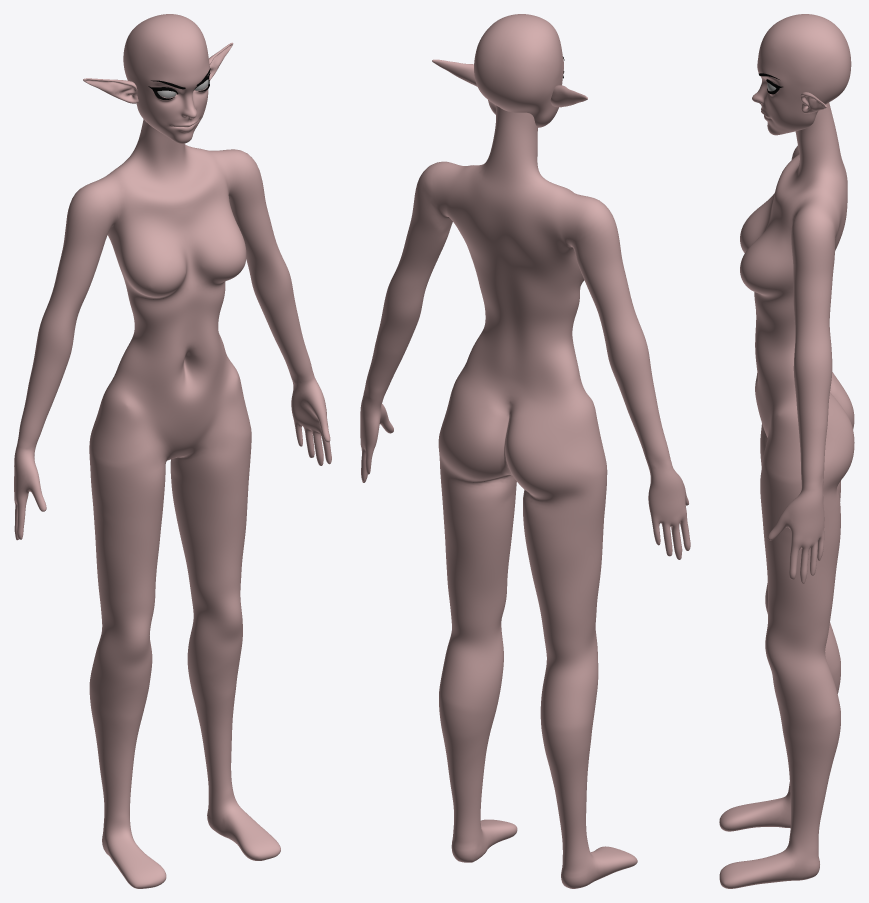
The model's file is Elf Female Base Mesh.fbx.
3 renders of one model, left to right at view 1: azimuth 30°, elevation 25°; view 2: azimuth 150°, elevation 25°; view 3: azimuth 270°, elevation 25°, orthographic. The views are drawn at different scales.
Parts seen in each view (by area): view 1: Elf_Body; view 2: Elf_Body; view 3: Elf_Body.
Boxes of the visible parts, bbox=[...] form: Elf_Body: bbox=[14, 14, 331, 888]; Elf_Body: bbox=[360, 14, 690, 888]; Elf_Body: bbox=[719, 14, 854, 888].
Size of the model in its own units: 71.11 by 179 by 26.17.
